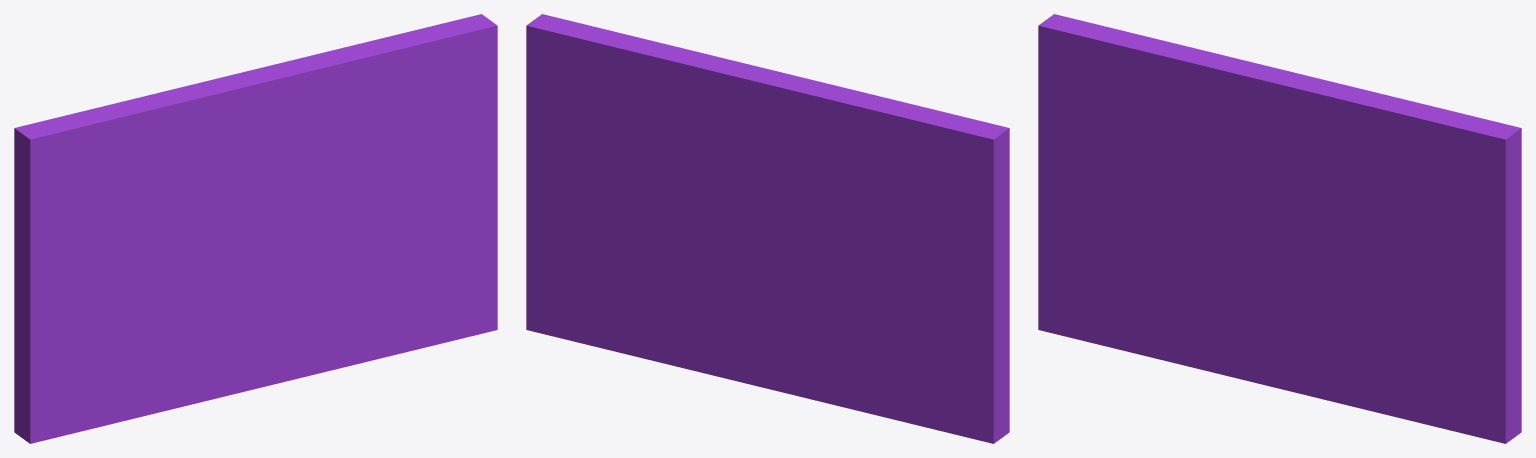
File: Barrier_63_chunks.fbx
3 renders of one model, left to right at view 1: azimuth 30°, elevation 25°; view 2: azimuth 150°, elevation 25°; view 3: azimuth 330°, elevation 25°, orthographic.
Parts seen in each view (by area): view 1: Barrier_63_1, Barrier_63_0, Barrier_63_6, Barrier_63_4, Barrier_63_5; view 2: Barrier_63_1, Barrier_63_0, Barrier_63_6, Barrier_63_4, Barrier_63_3, Barrier_63_2; view 3: Barrier_63_1, Barrier_63_0, Barrier_63_6, Barrier_63_4, Barrier_63_5.
Part boxes in pixels (box(x1,y1,x2,y2)): Barrier_63_1: box(14, 117, 264, 443); Barrier_63_0: box(248, 75, 497, 390); Barrier_63_6: box(59, 50, 352, 186); Barrier_63_4: box(324, 14, 497, 171); Barrier_63_5: box(174, 126, 357, 236); Barrier_63_1: box(764, 118, 1009, 443); Barrier_63_0: box(526, 70, 777, 390); Barrier_63_6: box(676, 49, 968, 173); Barrier_63_4: box(526, 14, 702, 177); Barrier_63_3: box(681, 121, 866, 205); Barrier_63_2: box(722, 204, 811, 261); Barrier_63_1: box(1038, 14, 1272, 382); Barrier_63_0: box(1256, 173, 1521, 443); Barrier_63_6: box(1079, 25, 1371, 154); Barrier_63_4: box(1332, 91, 1521, 217); Barrier_63_5: box(1182, 143, 1366, 236).
Size of the model in its own units: 462 by 288 by 27.2.
